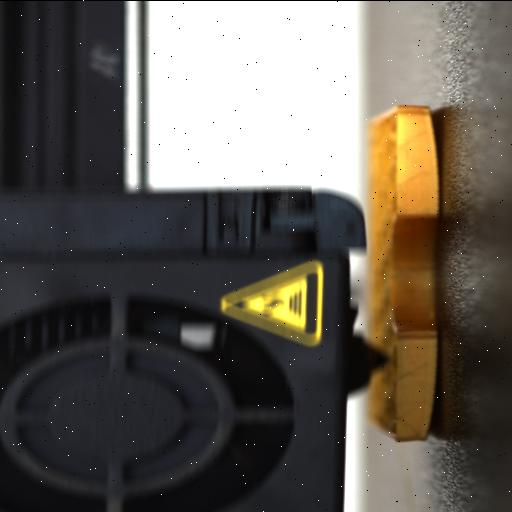warp: (392, 102, 440, 214), (388, 336, 438, 442)
